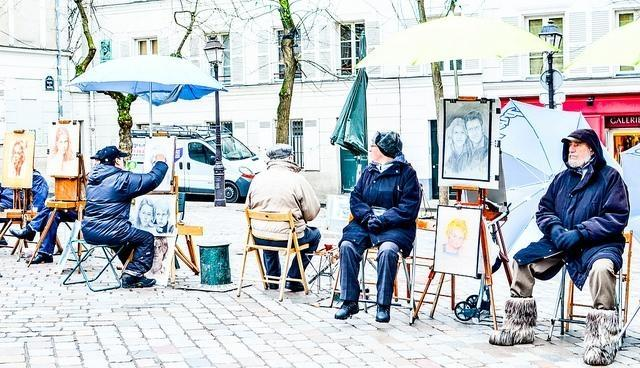car: (136, 128, 266, 201)
